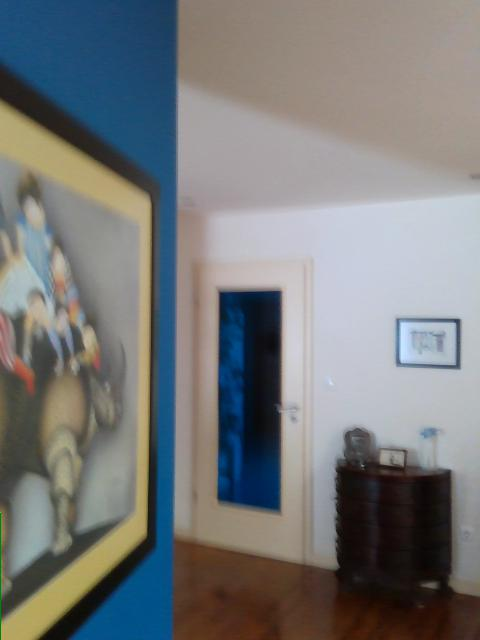door: (191, 254, 311, 567)
